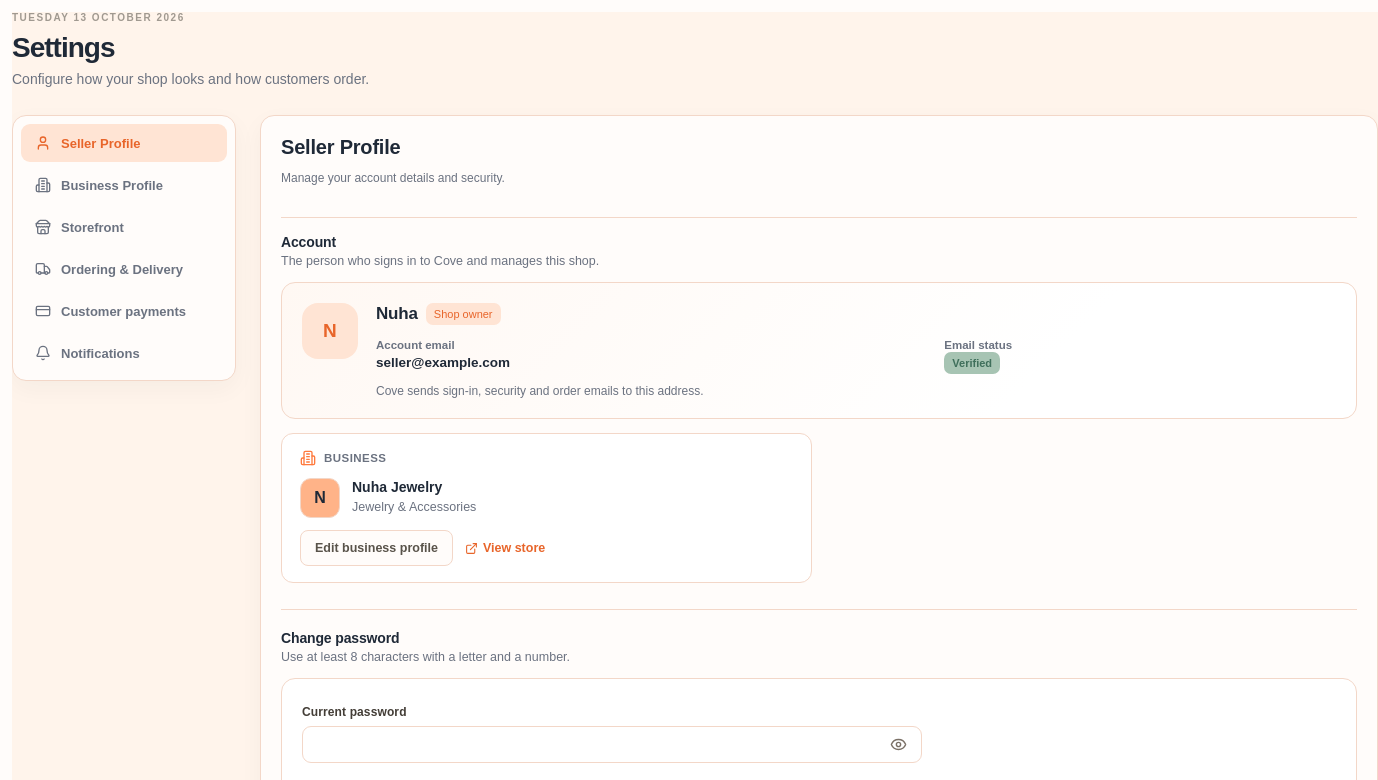
Test: Seller Profile overview › shows the account and business summary, and opens Business Profile from it
Expected: the text "Nuha" is shown, [376,304,418,324]
Expected: the text "seller@example.com" is shown, [376,355,510,370]
Step 1. Click the button "Edit business profile" → coordinates (376, 548), box [300,530,453,566]
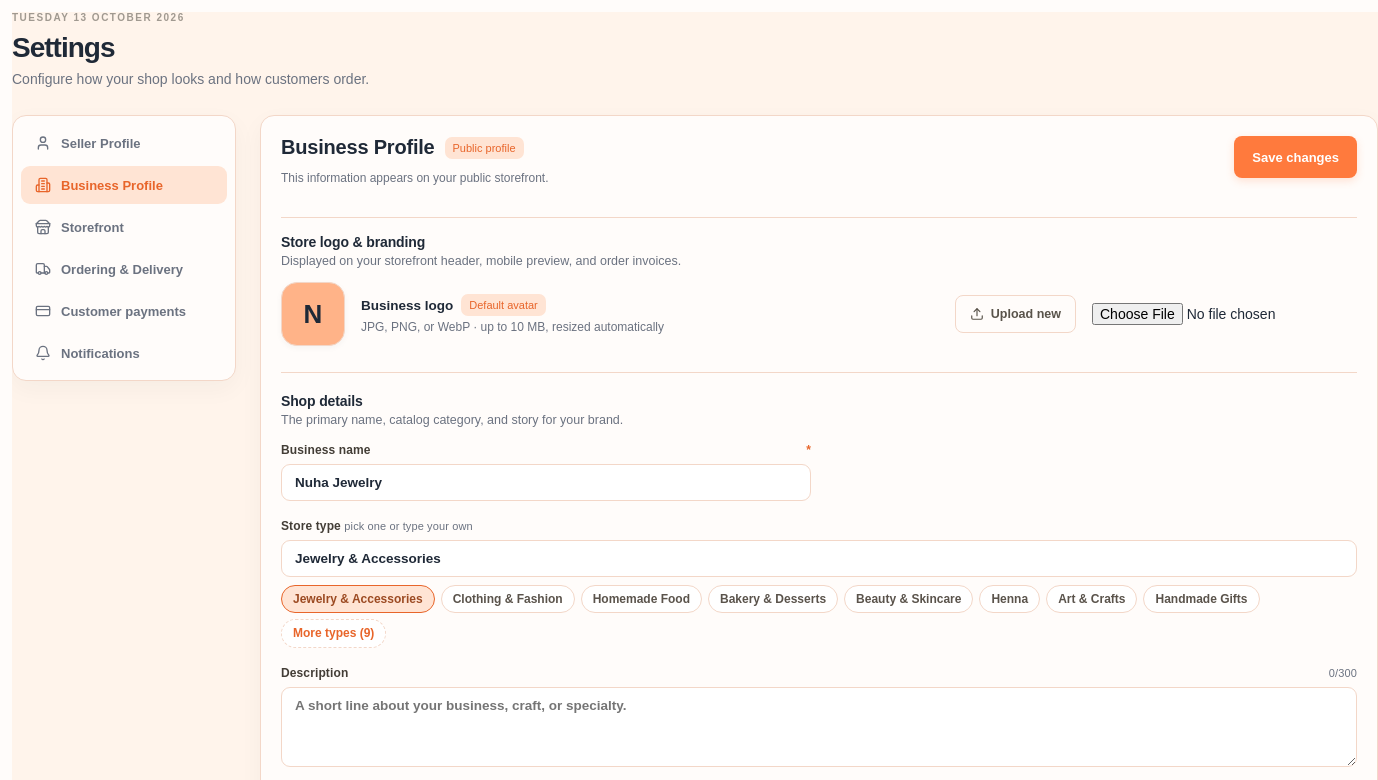
Expected: the heading "Business Profile" is shown, [281,136,434,159]
Expected: the button "Save changes" is shown, [1234,136,1357,178]
